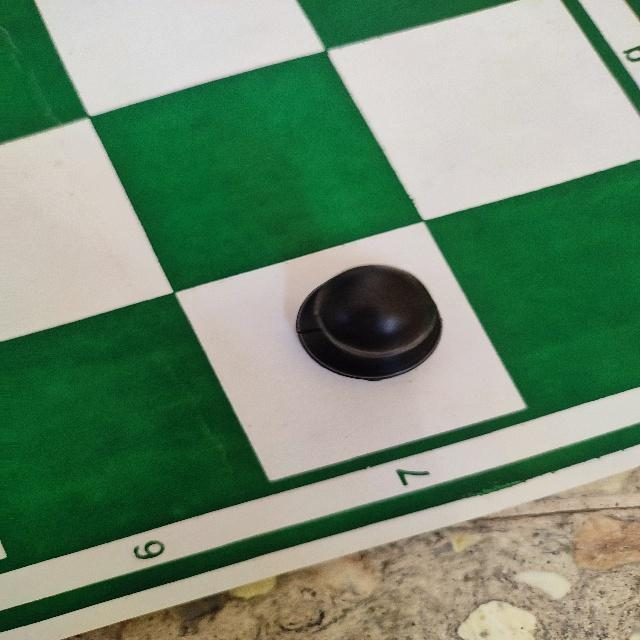Pawn: (294, 260, 446, 384)
